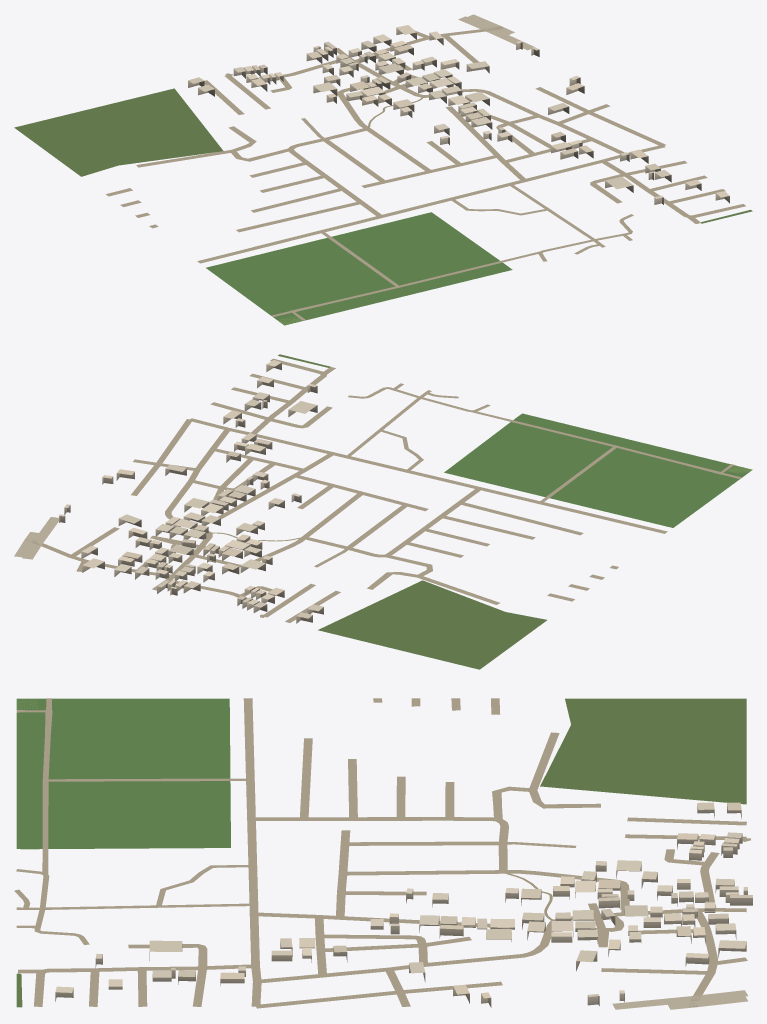
The picture shows the model from 3 angles, top to bottom: view 1: azimuth 30°, elevation 25°; view 2: azimuth 150°, elevation 25°; view 3: azimuth 270°, elevation 25°; orthographic projection. The views are drawn at different scales.
Parts seen in each view (by area): view 1: ground, building; view 2: ground, building; view 3: ground, building.
Boxes of the visible parts, box(x1,y1,x2,y2) form: ground: box(14, 14, 752, 325); building: box(188, 25, 729, 204); ground: box(14, 354, 752, 669); building: box(59, 360, 323, 623); ground: box(14, 698, 750, 1009); building: box(55, 802, 752, 1007).
Bounding box in the file's own units: 505 × 8 × 506.
